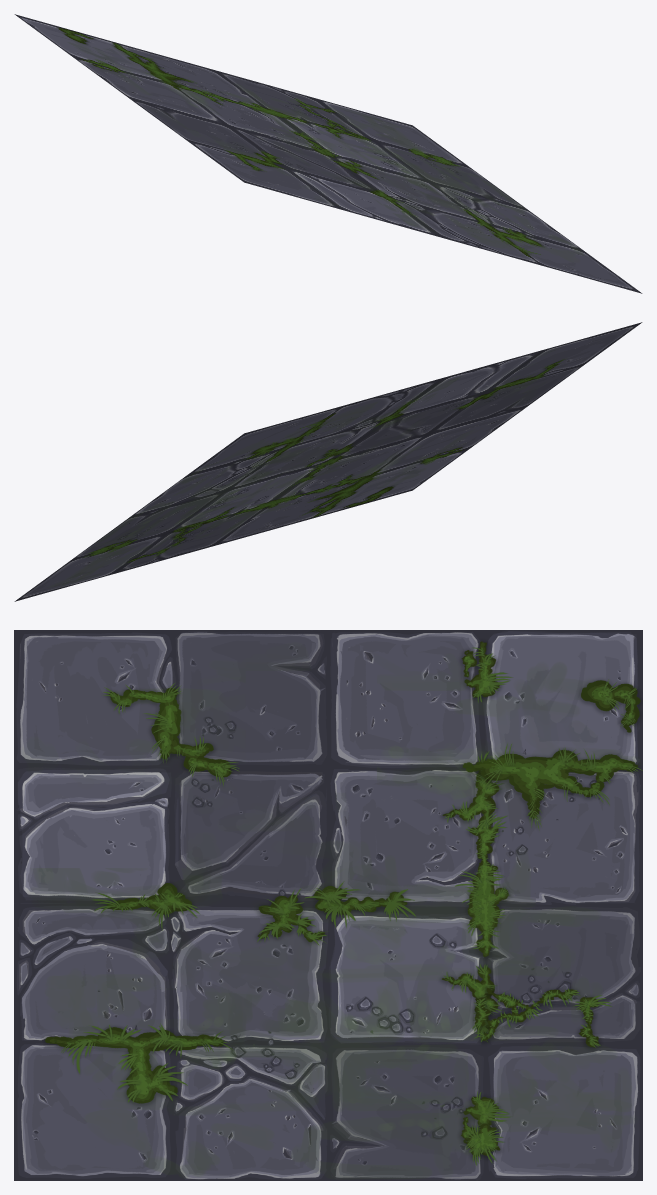
The model's file is MOD_Stairs_01_BotCap_3.fbx.
3 renders of one model, top to bottom at view 1: azimuth 30°, elevation 25°; view 2: azimuth 150°, elevation 25°; view 3: azimuth 270°, elevation 25°, orthographic. The views are drawn at different scales.
Parts seen in each view (by area): view 1: MOD_Stairs_01_BotCap_3; view 2: MOD_Stairs_01_BotCap_3; view 3: MOD_Stairs_01_BotCap_3.
Part boxes in pixels (x1=…): MOD_Stairs_01_BotCap_3: x1=14, y1=14, x2=642, y2=293; MOD_Stairs_01_BotCap_3: x1=14, y1=322, x2=642, y2=601; MOD_Stairs_01_BotCap_3: x1=14, y1=630, x2=642, y2=1180.
Bounding box in the file's own units: 400 × 200 × 400.
